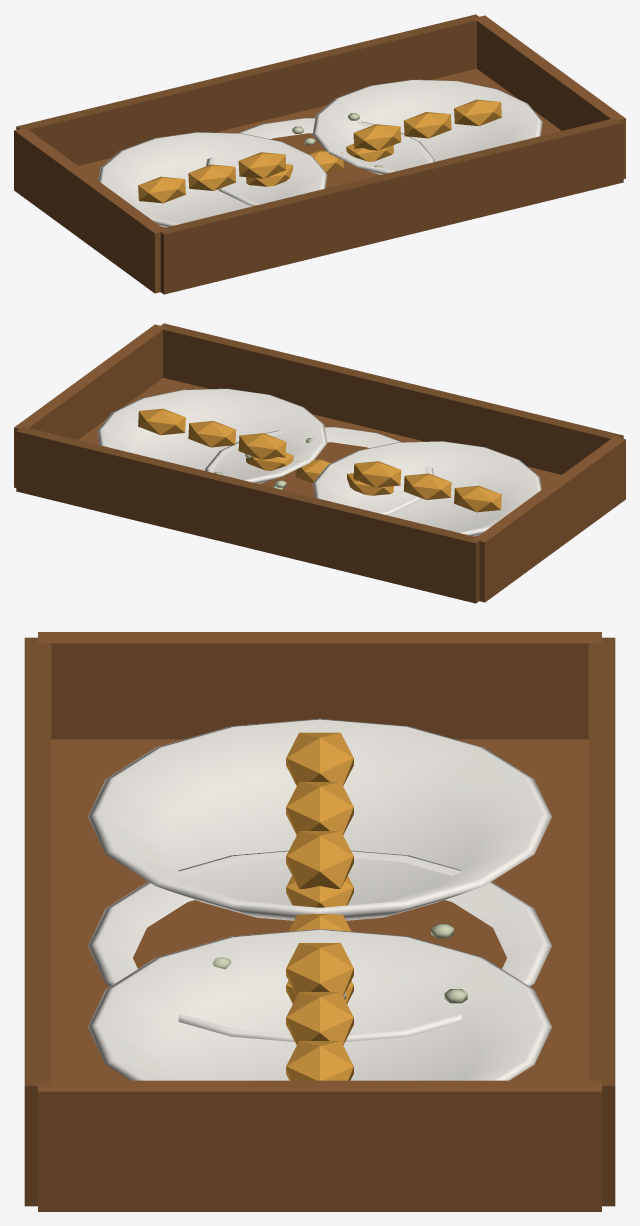
The model's file is Fish_Fried.fbx.
3 renders of one model, top to bottom at view 1: azimuth 30°, elevation 25°; view 2: azimuth 150°, elevation 25°; view 3: azimuth 270°, elevation 25°, orthographic. The views are drawn at different scales.
Parts seen in each view (by area): view 1: Fish_Fried__Stack, Fish_Fried; view 2: Fish_Fried__Stack, Fish_Fried; view 3: Fish_Fried__Stack, Fish_Fried, Fish_Fried__Rotten.
Boxes of the visible parts, x1,y1,x2,y2 form: Fish_Fried__Stack: (14,14,625,294); Fish_Fried: (206,118,434,206); Fish_Fried__Stack: (14,323,625,603); Fish_Fried: (205,427,433,515); Fish_Fried__Stack: (24,632,615,1211); Fish_Fried: (88,850,551,1041); Fish_Fried__Rotten: (212,924,467,1003).
Bounding box in the file's own units: 0.328 × 0.04 × 0.178.
